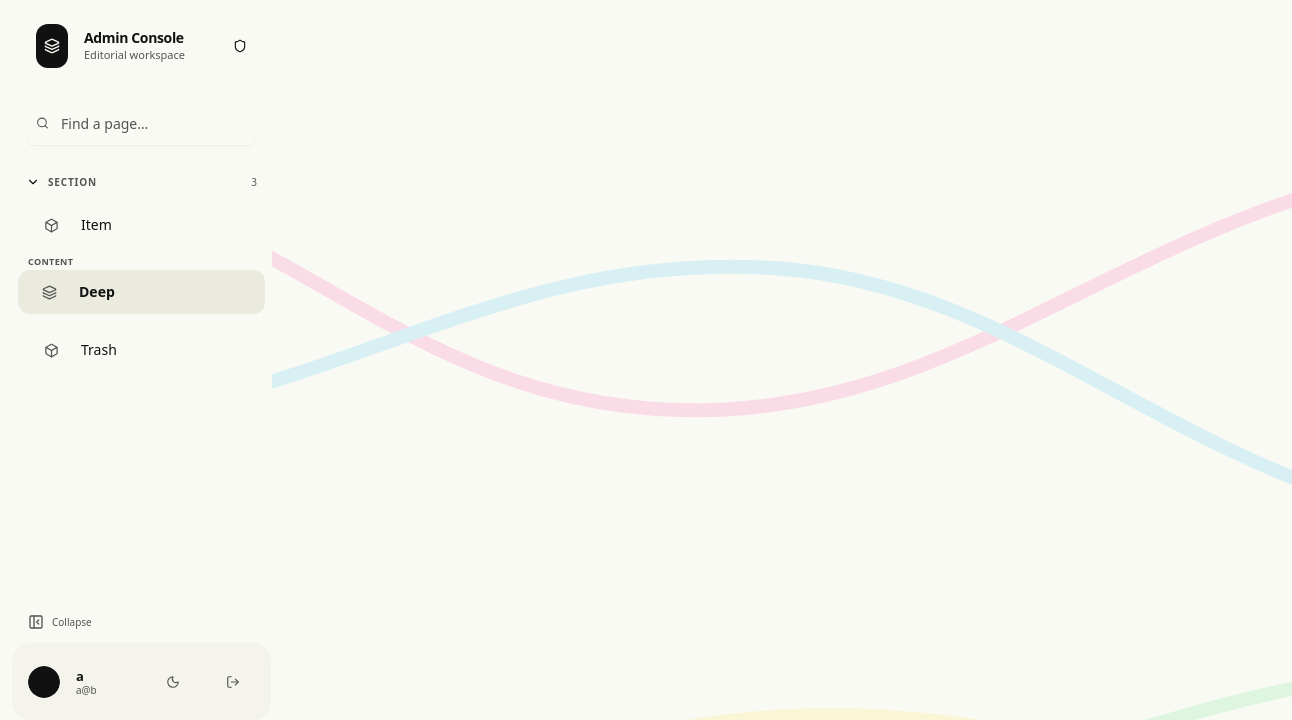
AdminSidebar › searches aliases and section names
The image size is (1292, 720).
Type "countries" into the field named "Search navigation".
click(142, 123); type("countries")  # box [28,101,255,145]
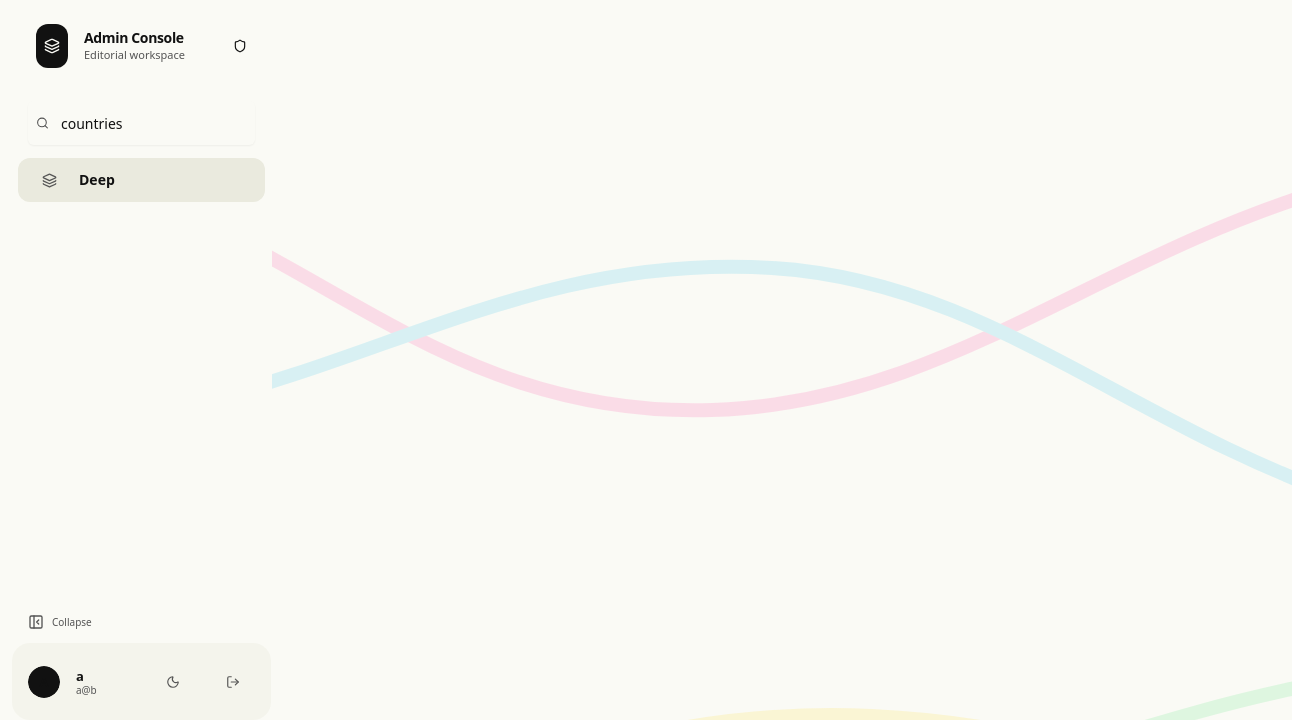
Expected: the link "Deep" is shown, [18,158,265,202]
Result: the link "Item" is gone
Replace the text in the field named "Search navigation" with "section" at (142, 123), box [28,101,255,145]
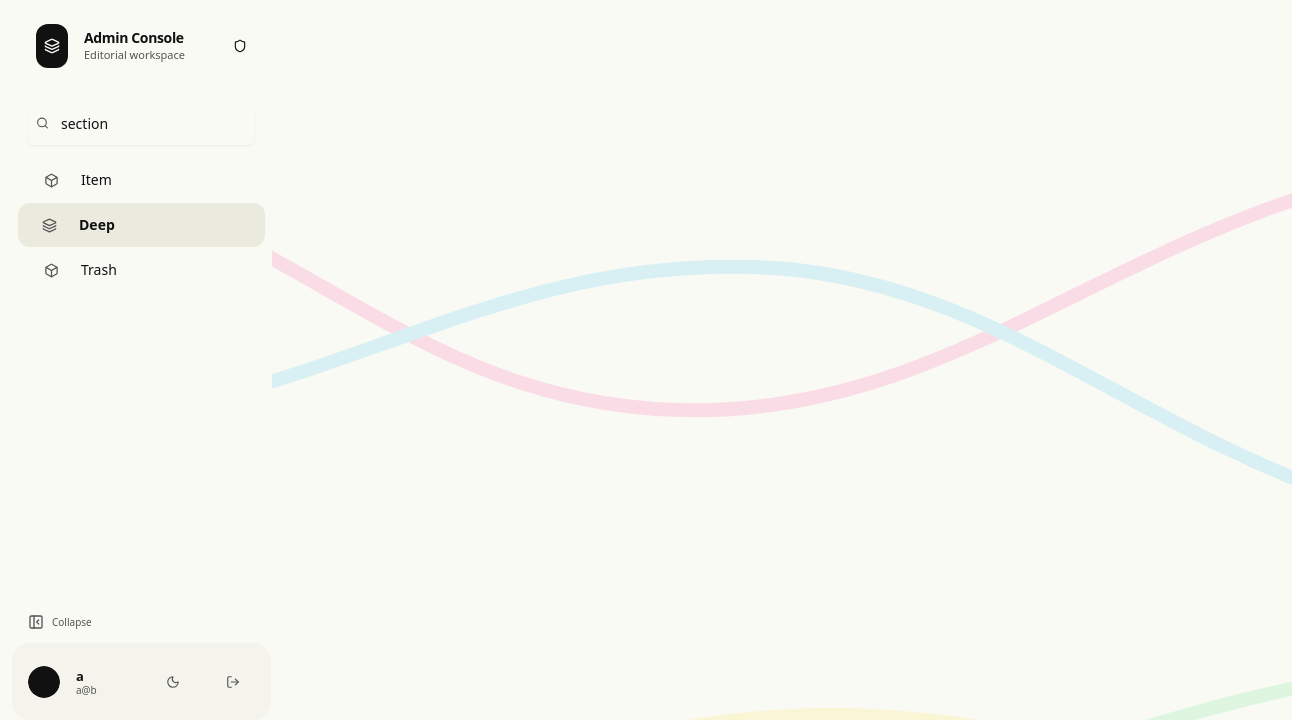
Result: the link "Item" is shown at [44,170,112,189]
